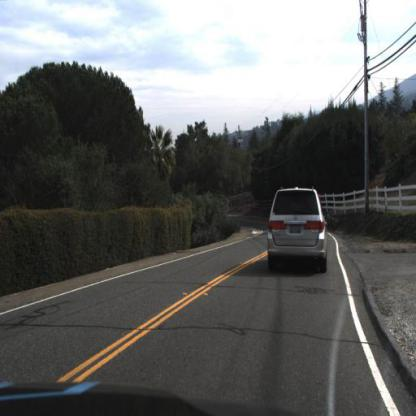car: (267, 186, 330, 272)
